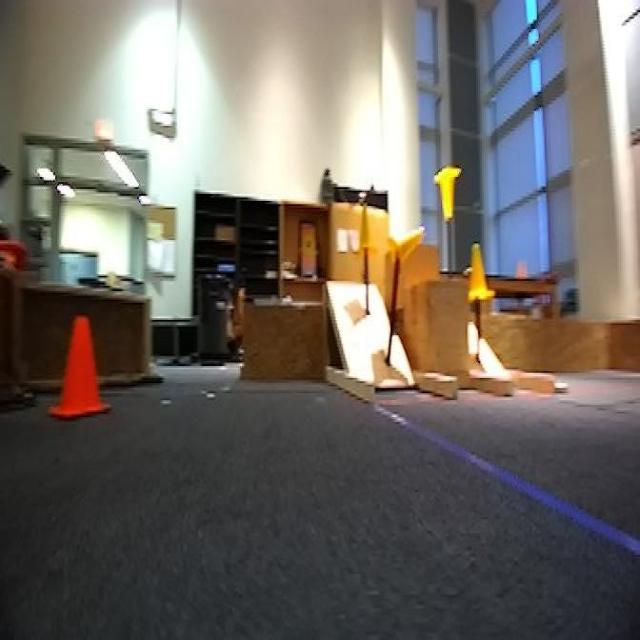frc_cone: (434, 163, 462, 223), (388, 225, 423, 272), (464, 243, 490, 303), (356, 204, 382, 252)
